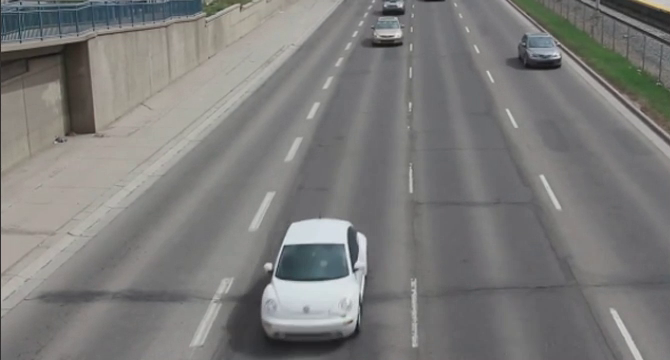car: (253, 213, 378, 341), (515, 31, 568, 70), (369, 12, 406, 52)
